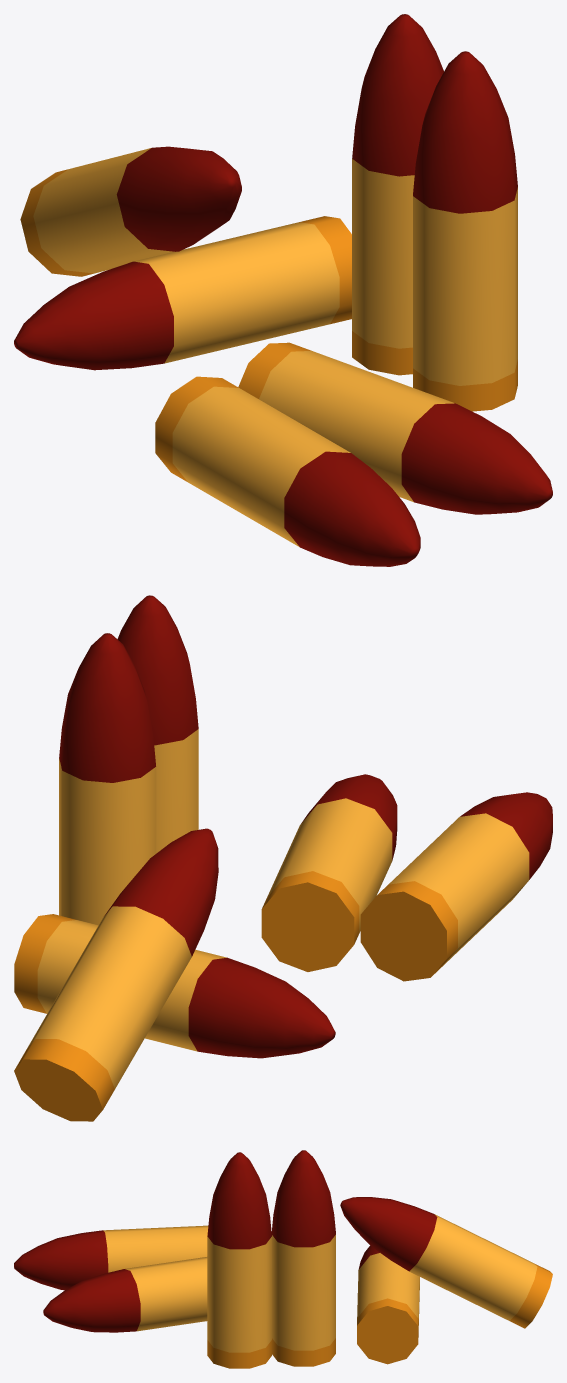
The model's file is Bullet.fbx.
3 views of the same model, one above another, from view 1: azimuth 30°, elevation 25°; view 2: azimuth 150°, elevation 25°; view 3: azimuth 270°, elevation 25° (orthographic). The views are drawn at different scales.
Parts seen in each view (by area): view 1: Bullet; view 2: Bullet; view 3: Bullet.
Boxes of the visible parts, x1,y1,x2,y2 form: Bullet: (14,14,552,566); Bullet: (14,595,552,1121); Bullet: (14,1150,552,1368).
Bounding box in the file's own units: 36.46 × 34 × 76.98.
